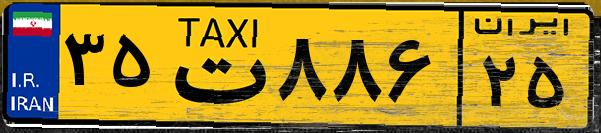2: (475, 38, 525, 113)
3: (57, 26, 110, 100)
5: (525, 38, 570, 115), (110, 28, 158, 98)
6: (385, 28, 445, 110)
8: (270, 28, 330, 110), (330, 28, 385, 110)
ت: (158, 12, 270, 120)
